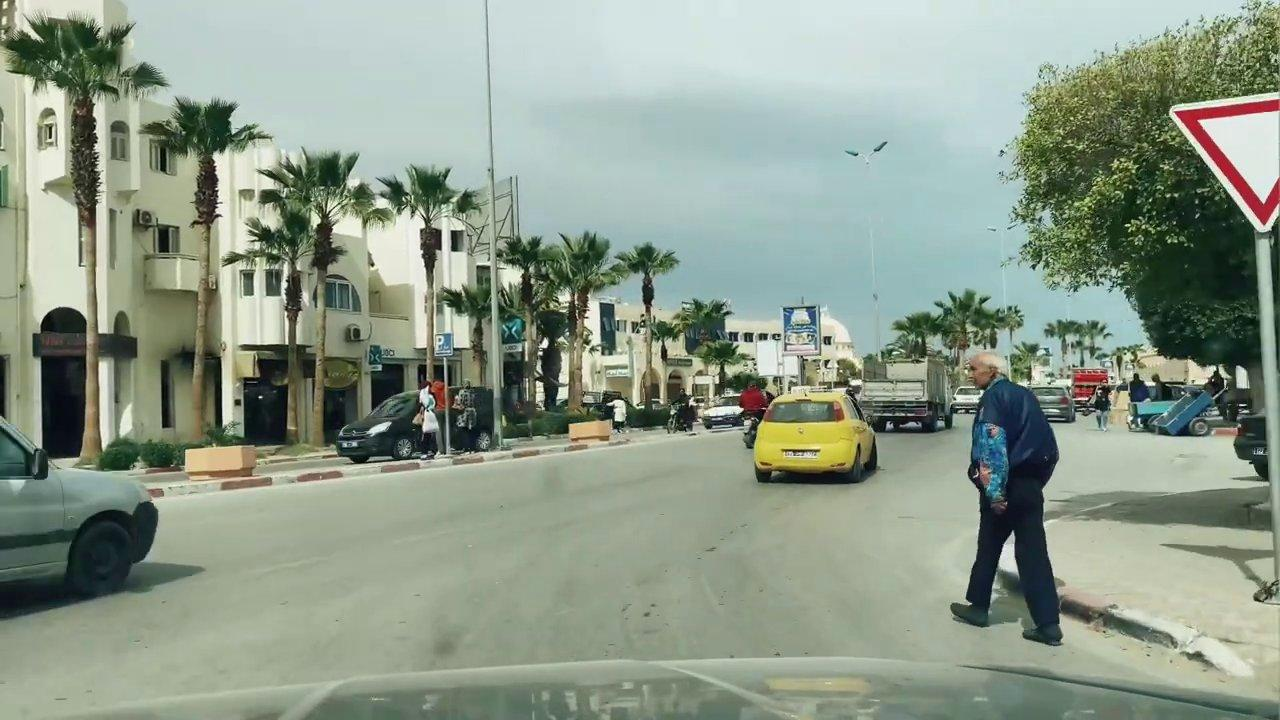give way: (1172, 91, 1280, 234)
parking zone: (433, 333, 456, 358)
